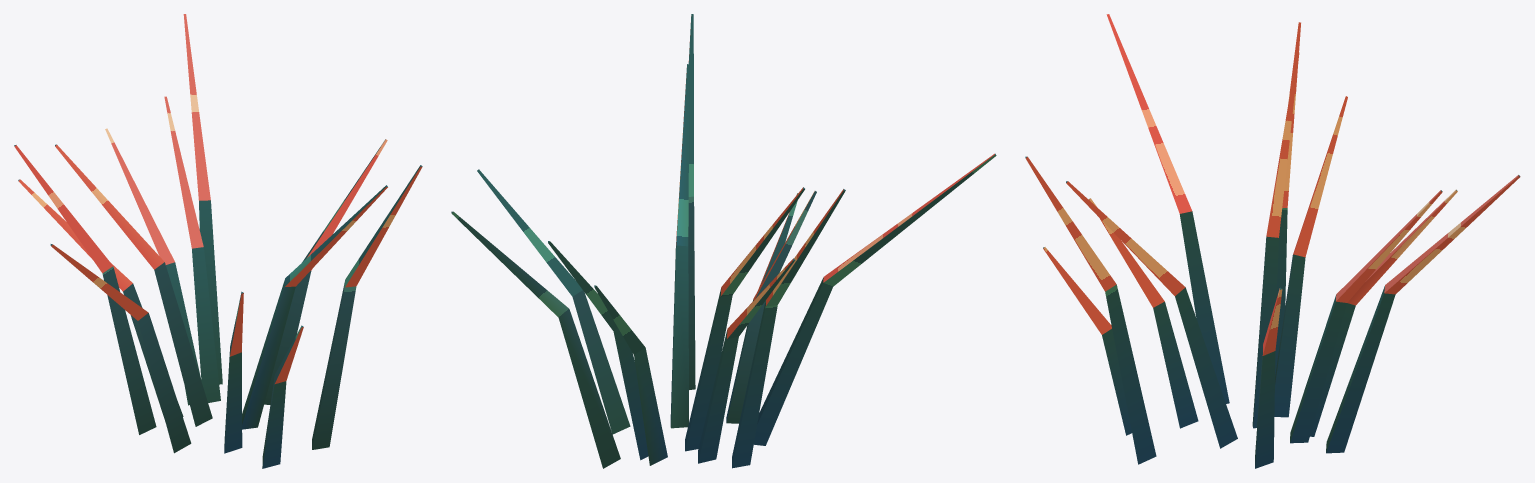
Rendered from alien.grass.glb.
The picture shows the model from 3 angles, left to right: view 1: azimuth 30°, elevation 25°; view 2: azimuth 150°, elevation 25°; view 3: azimuth 270°, elevation 25°; orthographic projection. The views are drawn at different scales.
Visible parts, largest first — view 1: kit_blade_4, kit_blade_11, kit_blade_9, kit_blade_1, kit_blade_5, kit_blade_8, kit_blade_0, kit_blade_2, kit_blade_3, kit_blade_10, kit_blade_6, kit_blade_7; view 2: kit_blade_8, kit_blade_1, kit_blade_0, kit_blade_9, kit_blade_2, kit_blade_4, kit_blade_7, kit_blade_6, kit_blade_5, kit_blade_3, kit_blade_11; view 3: kit_blade_0, kit_blade_11, kit_blade_8, kit_blade_1, kit_blade_7, kit_blade_5, kit_blade_4, kit_blade_3, kit_blade_2, kit_blade_6, kit_blade_10, kit_blade_9.
Part boxes in pixels (box(x1,y1,x2,y2)): kit_blade_4: box(55, 144, 212, 426); kit_blade_11: box(312, 165, 422, 449); kit_blade_9: box(14, 145, 156, 434); kit_blade_1: box(242, 185, 387, 429); kit_blade_5: box(164, 96, 220, 402); kit_blade_8: box(50, 244, 191, 453); kit_blade_0: box(183, 14, 222, 384); kit_blade_2: box(264, 139, 387, 404); kit_blade_3: box(224, 291, 243, 453); kit_blade_10: box(262, 325, 303, 468); kit_blade_6: box(105, 128, 201, 405); kit_blade_7: box(18, 179, 183, 418); kit_blade_8: box(754, 153, 996, 445); kit_blade_1: box(670, 64, 689, 428); kit_blade_0: box(451, 211, 620, 468); kit_blade_9: box(732, 189, 845, 468); kit_blade_2: box(477, 169, 630, 434); kit_blade_4: box(685, 187, 804, 451); kit_blade_7: box(698, 258, 795, 463); kit_blade_6: box(594, 285, 667, 465); kit_blade_5: box(548, 241, 648, 460); kit_blade_3: box(726, 191, 816, 423); kit_blade_11: box(688, 14, 695, 389); kit_blade_0: box(1326, 175, 1520, 453); kit_blade_11: box(1025, 156, 1156, 464); kit_blade_8: box(1106, 14, 1229, 403); kit_blade_1: box(1066, 181, 1237, 448); kit_blade_7: box(1274, 96, 1347, 417); kit_blade_5: box(1290, 190, 1442, 443); kit_blade_4: box(1252, 52, 1299, 428); kit_blade_3: box(1088, 198, 1198, 428); kit_blade_2: box(1255, 287, 1282, 468); kit_blade_6: box(1310, 189, 1457, 436); kit_blade_10: box(1043, 247, 1131, 435); kit_blade_9: box(1275, 22, 1300, 375).
Size of the model in its own units: 1.22 by 0.8743 by 1.19.
2 materials, 2 textured.
